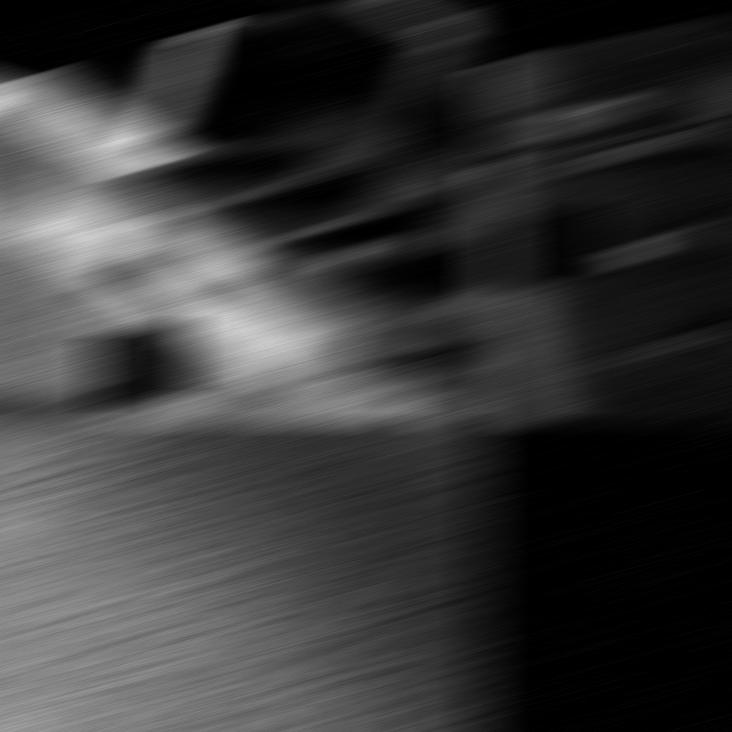Airbag: (0, 3, 494, 421), (0, 427, 494, 729), (472, 3, 732, 421)
